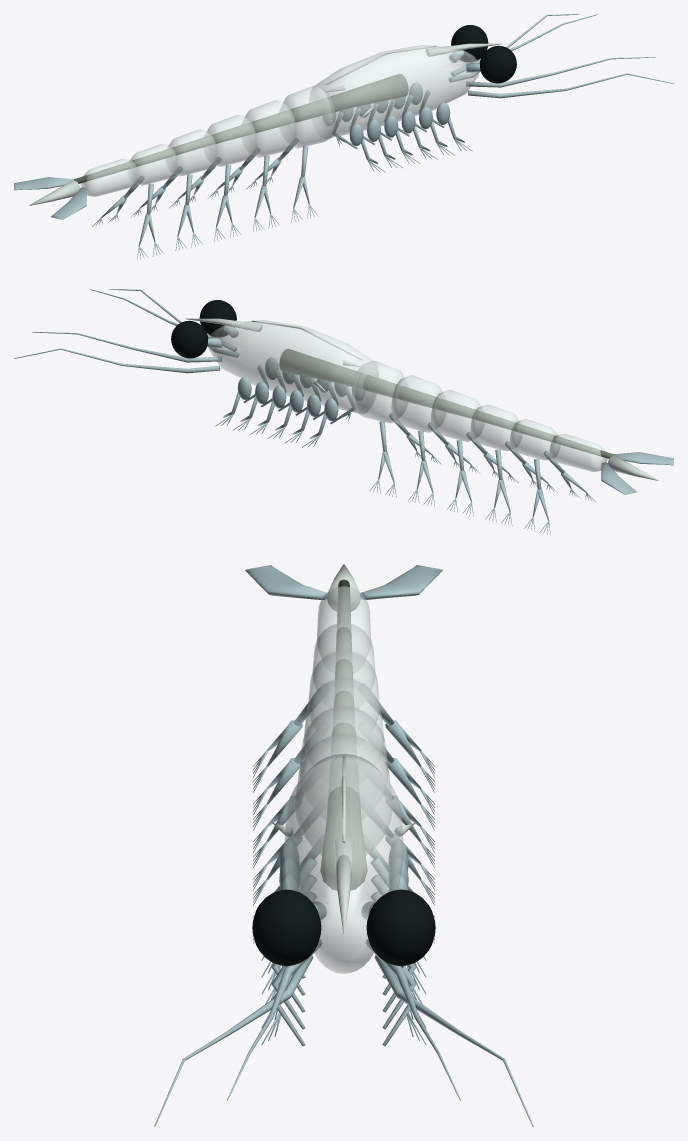
Rendered from ice_krill_hybrid.glb.
3 views of the same model, one above another, from view 1: azimuth 30°, elevation 25°; view 2: azimuth 150°, elevation 25°; view 3: azimuth 270°, elevation 25° (orthographic). The views are drawn at different scales.
Parts seen in each view (by area): view 1: Carapace, InternalBand, ThoracicBasketAndGills, Abdomen01, Abdomen02, Abdomen03, Abdomen04, Abdomen05, Abdomen06, RoundEyeL, RoundEyeR, PleopodPaddles05 (+10 smaller); view 2: Carapace, InternalBand, ThoracicBasketAndGills, Abdomen01, Abdomen02, Abdomen03, Abdomen04, Abdomen05, Abdomen06, RoundEyeR, RoundEyeL, PleopodPaddles05 (+10 smaller); view 3: Carapace, Abdomen01, InternalBand, ThoracicBasketAndGills, RoundEyeL, RoundEyeR, Abdomen02, Abdomen03, Abdomen04, Abdomen05, Abdomen06, PleopodPaddles05 (+10 smaller).
Part boxes in pixels (box(x1,y1,x2,y2)): Carapace: box(309, 45, 479, 138); InternalBand: box(74, 74, 408, 183); ThoracicBasketAndGills: box(323, 82, 472, 172); Abdomen01: box(279, 85, 335, 148); Abdomen02: box(241, 100, 296, 157); Abdomen03: box(203, 114, 256, 166); Abdomen04: box(165, 129, 217, 176); Abdomen05: box(127, 144, 177, 185); Abdomen06: box(80, 158, 138, 196); RoundEyeL: box(479, 45, 516, 83); RoundEyeR: box(451, 25, 488, 62); PleopodPaddles05: box(91, 176, 163, 260); Carapace: box(208, 320, 378, 413); InternalBand: box(279, 349, 613, 458); ThoracicBasketAndGills: box(215, 357, 364, 447); Abdomen01: box(352, 360, 408, 423); Abdomen02: box(391, 375, 446, 432); Abdomen03: box(431, 389, 484, 441); Abdomen04: box(470, 404, 522, 451); Abdomen05: box(510, 419, 560, 460); Abdomen06: box(549, 433, 607, 471); RoundEyeR: box(171, 320, 208, 358); RoundEyeL: box(199, 300, 236, 337); PleopodPaddles05: box(524, 451, 596, 535); Carapace: box(284, 754, 403, 973); Abdomen01: box(295, 733, 392, 855); InternalBand: box(320, 579, 367, 890); ThoracicBasketAndGills: box(261, 840, 426, 1046); RoundEyeL: box(252, 889, 321, 965); RoundEyeR: box(366, 889, 435, 965); Abdomen02: box(299, 706, 388, 779); Abdomen03: box(304, 678, 383, 754); Abdomen04: box(308, 650, 379, 722); Abdomen05: box(312, 622, 375, 689); Abdomen06: box(316, 586, 371, 658); PleopodPaddles05: box(253, 684, 434, 792).
Size of the model in its own units: 0.0379 by 0.00763 by 0.0104.
